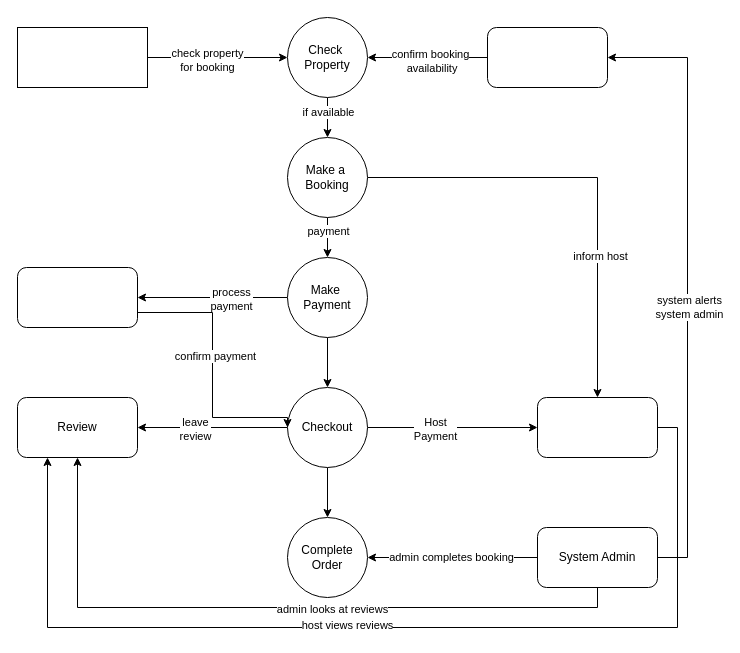
This 740x653 diagram has some shape labels left out. The centre of each missing label's shape, as x and y in pixels:
"Host" belongs at pixel 597 427.
"Payment processing" belongs at pixel 77 297.
"System" belongs at pixel 547 57.
"User/Guest" belongs at pixel 82 57.
